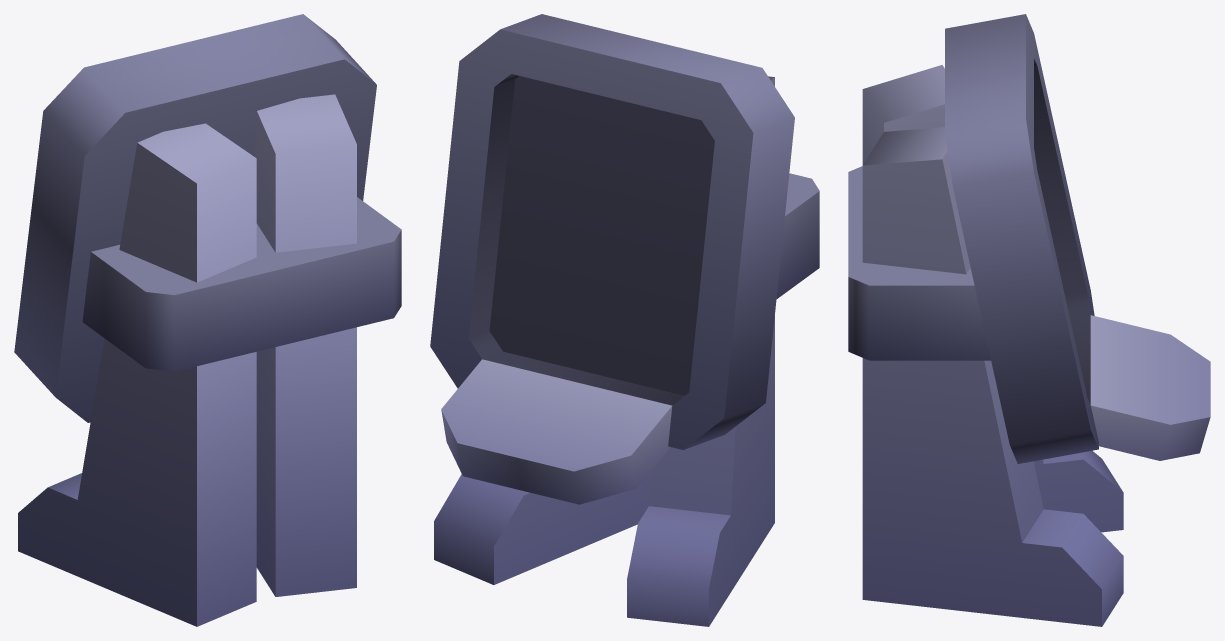
Rendered from kenney-factory-screen-panel-small.glb.
The picture shows the model from 3 angles, left to right: view 1: azimuth 30°, elevation 25°; view 2: azimuth 150°, elevation 25°; view 3: azimuth 270°, elevation 25°; orthographic projection. The views are drawn at different scales.
Parts seen in each view (by area): view 1: screen-panel-small; view 2: screen-panel-small; view 3: screen-panel-small.
Part boxes in pixels (box(x1,y1,x2,y2)): screen-panel-small: box(14, 14, 401, 626); screen-panel-small: box(430, 14, 819, 626); screen-panel-small: box(848, 14, 1210, 626).
Size of the model in its own units: 0.9 by 1.49 by 0.9858.
1 material, 1 textured.
